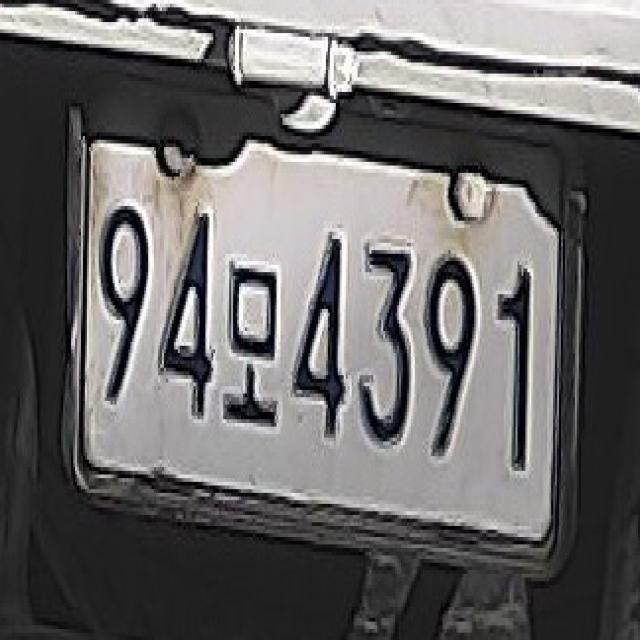plat: (65, 107, 578, 572)
